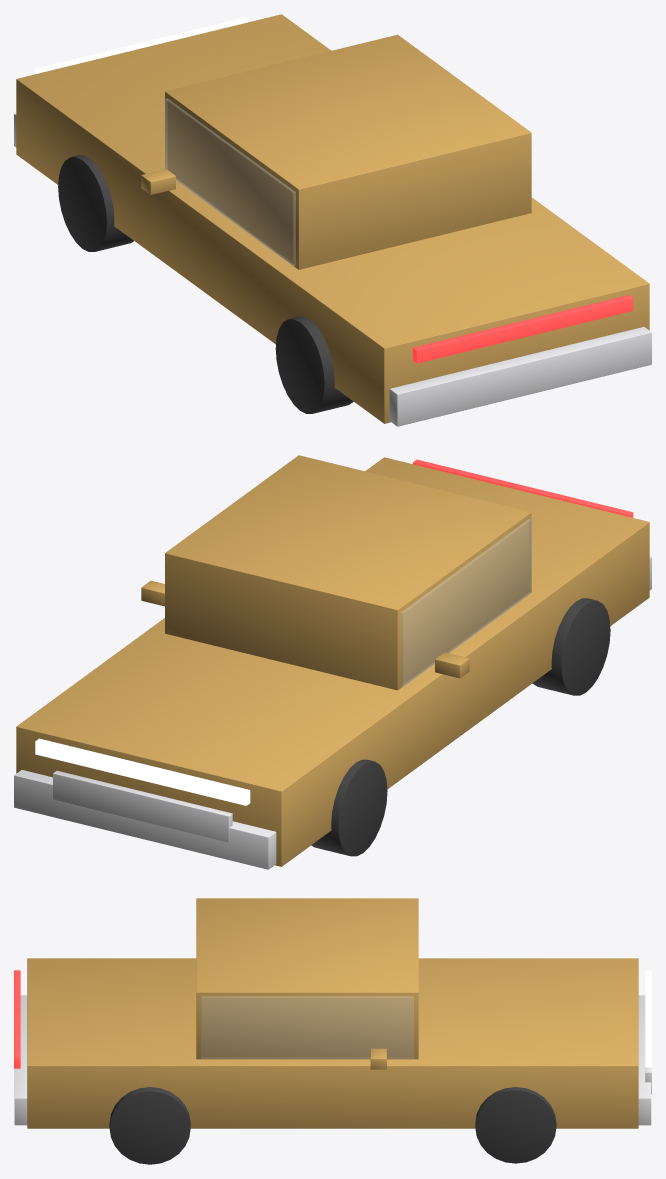
The model's file is vehicle.glb.
3 views of the same model, one above another, from view 1: azimuth 30°, elevation 25°; view 2: azimuth 150°, elevation 25°; view 3: azimuth 270°, elevation 25° (orthographic). The views are drawn at different scales.
Parts seen in each view (by area): view 1: BODY_Main, BODY_Roof, BODY_Bumpers_Rear, GLASS_Greenhouse, WHEEL_RR_Tire, WHEEL_FR_Tire, LIGHT_Taillights, LIGHT_Headlights, BODY_Mirror_R; view 2: BODY_Main, BODY_Roof, GLASS_Greenhouse, BODY_Bumpers_Front, BODY_Grille, WHEEL_RR_Tire, WHEEL_FR_Tire, LIGHT_Headlights, LIGHT_Taillights, BODY_Mirror_R; view 3: BODY_Main, BODY_Roof, GLASS_Greenhouse, WHEEL_RL_Tire, WHEEL_FL_Tire, BODY_Bumpers_Rear, BODY_Bumpers_Front, LIGHT_Taillights, LIGHT_Headlights.
Boxes of the visible parts, bbox=[...] form: BODY_Main: bbox=[16, 14, 649, 423]; BODY_Roof: bbox=[165, 34, 531, 269]; BODY_Bumpers_Rear: bbox=[389, 327, 651, 426]; GLASS_Greenhouse: bbox=[165, 98, 295, 265]; WHEEL_RR_Tire: bbox=[275, 316, 353, 413]; WHEEL_FR_Tire: bbox=[58, 155, 133, 251]; LIGHT_Taillights: bbox=[413, 295, 633, 363]; LIGHT_Headlights: bbox=[35, 17, 250, 74]; BODY_Mirror_R: bbox=[141, 169, 175, 194]; BODY_Main: bbox=[16, 457, 649, 866]; BODY_Roof: bbox=[165, 455, 531, 690]; GLASS_Greenhouse: bbox=[401, 519, 531, 686]; BODY_Bumpers_Front: bbox=[14, 770, 276, 869]; BODY_Grille: bbox=[53, 770, 232, 842]; WHEEL_RR_Tire: bbox=[532, 598, 610, 695]; WHEEL_FR_Tire: bbox=[311, 759, 387, 856]; LIGHT_Headlights: bbox=[35, 738, 250, 805]; LIGHT_Taillights: bbox=[413, 459, 633, 517]; BODY_Mirror_R: bbox=[435, 652, 469, 678]; BODY_Main: bbox=[27, 958, 638, 1128]; BODY_Roof: bbox=[196, 898, 418, 1059]; GLASS_Greenhouse: bbox=[201, 996, 413, 1058]; WHEEL_RL_Tire: bbox=[109, 1087, 190, 1164]; WHEEL_FL_Tire: bbox=[475, 1087, 556, 1163]; BODY_Bumpers_Rear: bbox=[14, 995, 27, 1125]; BODY_Bumpers_Front: bbox=[638, 995, 651, 1125]; LIGHT_Taillights: bbox=[14, 970, 20, 1068]; LIGHT_Headlights: bbox=[645, 971, 651, 1067].
Bounding box in the file's own units: 2.26 × 1.32 × 4.71.
